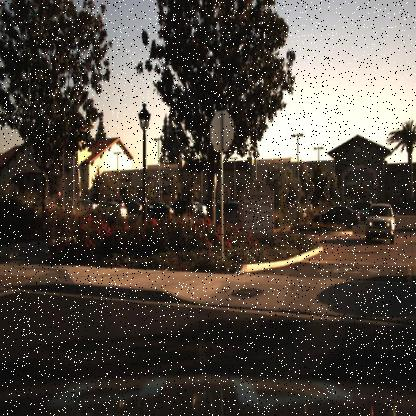car: (197, 194, 255, 228), (364, 202, 394, 246), (311, 204, 360, 228), (131, 198, 177, 220), (169, 197, 203, 225), (188, 194, 208, 219)
